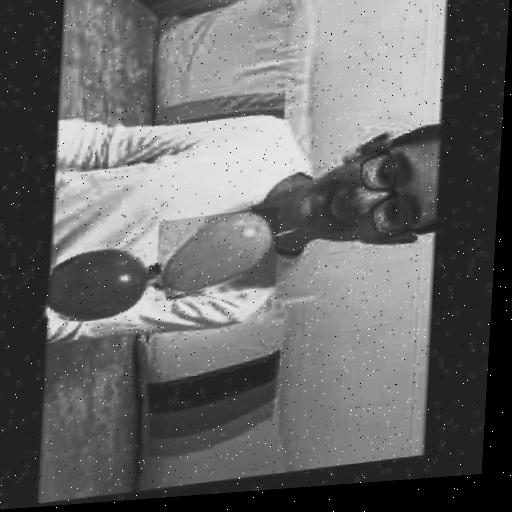balloon: (153, 210, 279, 304), (42, 242, 150, 331)
